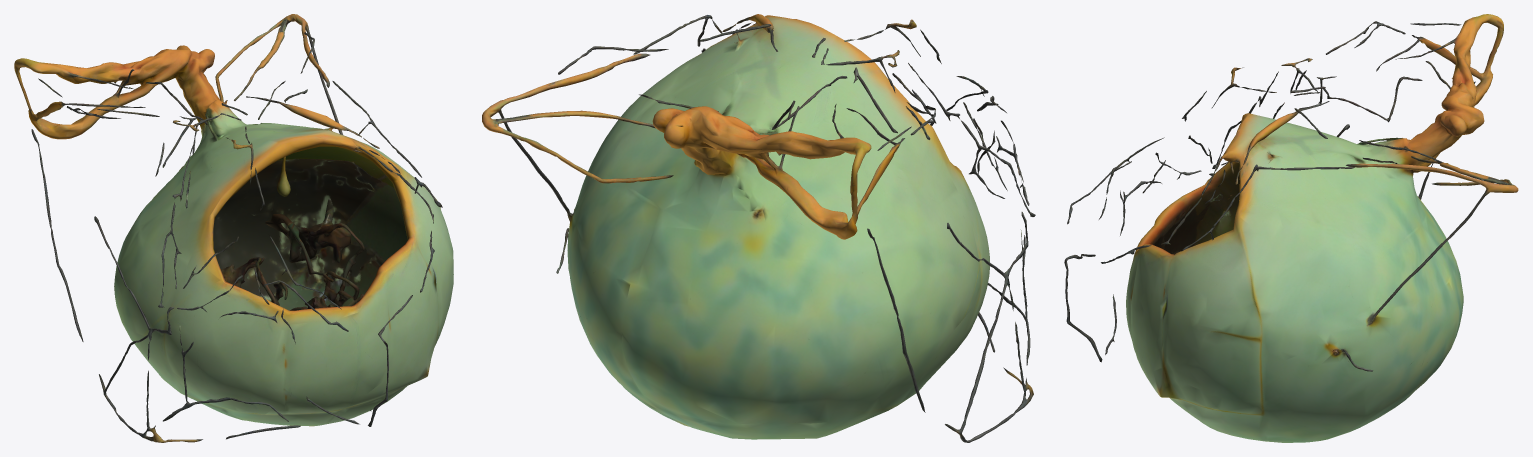
Rendered from spider_egg_sac.glb.
3 views of the same model, side by side, from view 1: azimuth 30°, elevation 25°; view 2: azimuth 150°, elevation 25°; view 3: azimuth 270°, elevation 25° (orthographic). The views are drawn at different scales.
Size of the model in its own units: 1.61 by 1.6 by 2.
Materials: 1 (1 with a texture image).
